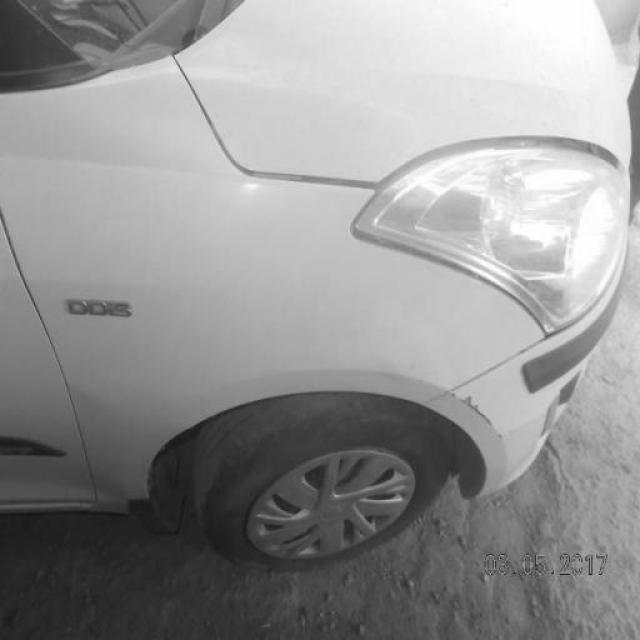scratch: (447, 392, 503, 440)
